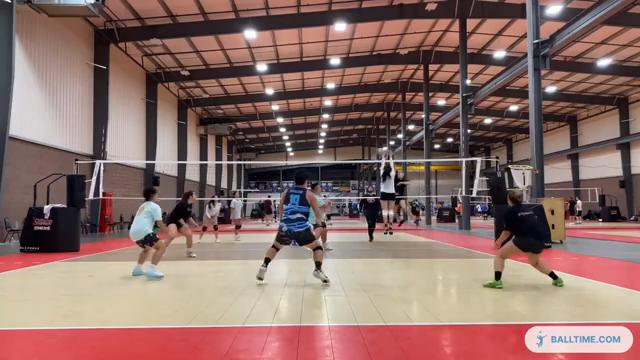muro: (373, 146, 400, 238)
